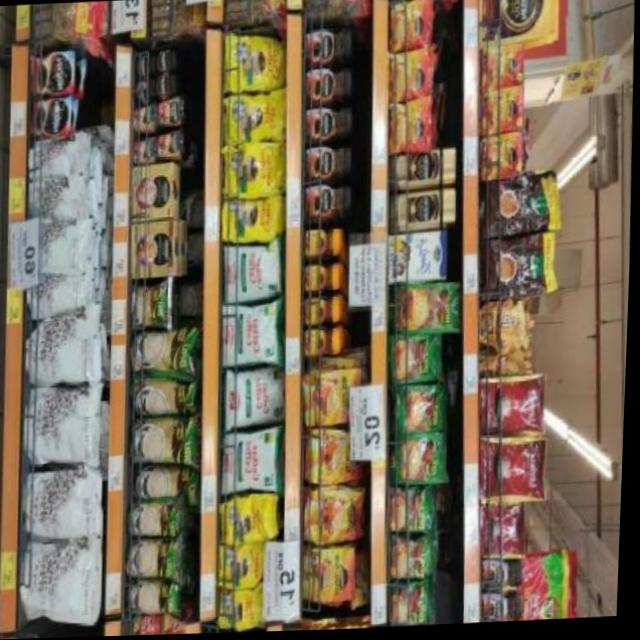Coffee: (307, 430, 368, 488), (303, 371, 364, 429), (306, 489, 367, 545), (304, 548, 358, 606), (387, 192, 457, 228), (386, 153, 456, 188), (388, 104, 431, 152), (31, 52, 76, 94), (388, 54, 429, 100), (301, 31, 351, 67), (389, 4, 428, 50), (303, 187, 353, 222), (303, 109, 353, 144), (304, 148, 352, 184), (303, 71, 351, 107), (30, 96, 70, 138), (303, 296, 341, 328), (485, 562, 526, 591), (485, 596, 524, 625), (306, 230, 343, 259), (306, 328, 341, 357), (306, 267, 340, 293), (133, 48, 155, 78), (155, 72, 176, 99), (133, 80, 154, 107), (155, 48, 177, 70)
